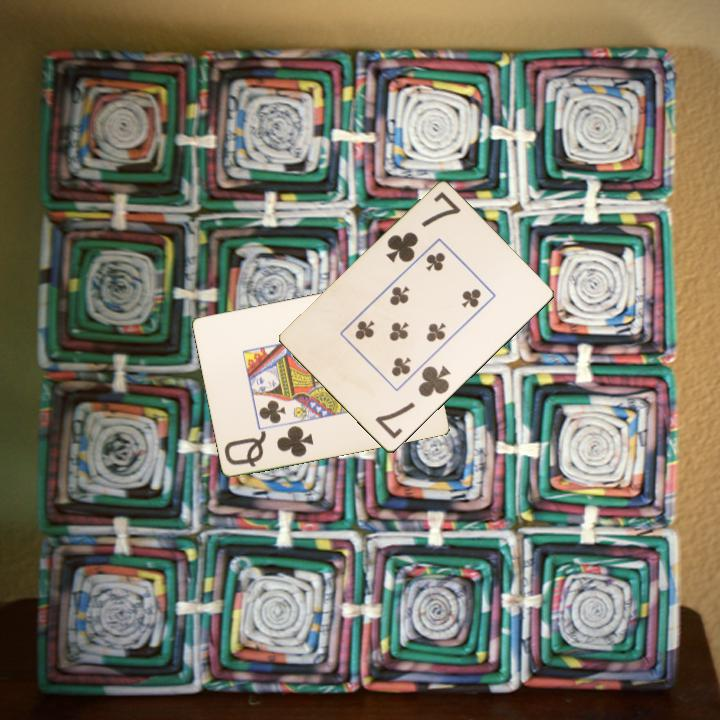7c: (372, 362, 454, 442), (382, 188, 464, 266)
Qc: (221, 422, 317, 470)
